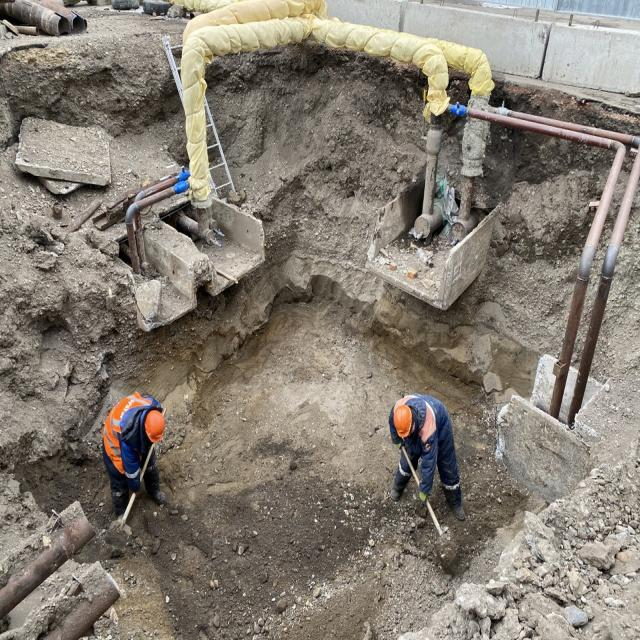Helmet: (145, 411, 167, 446), (393, 407, 415, 438)
Jacket: (106, 399, 145, 469)
NoJacket: (411, 396, 452, 454)
